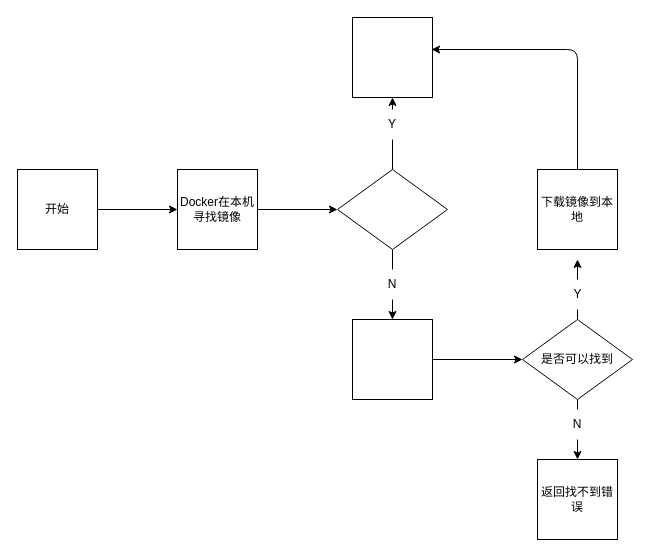
The diagram is 650 pixels wide and 557 high, and some of its shapes have lost their labels. Here are the shapes that lost their labels. From the top down, the centre of each, then its label:
the point at 392,57: 使用并运行
the point at 392,209: 判断本机是否 存在镜像
the point at 392,359: 去Docker Hub上下载
